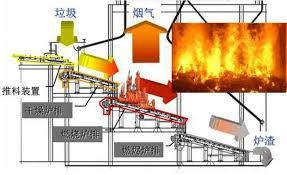fire: (173, 24, 282, 81)
